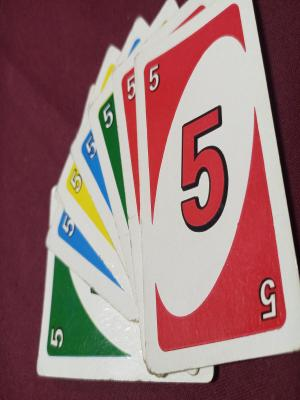num_5: (58, 205, 80, 243), (44, 321, 68, 355), (97, 99, 119, 134), (69, 162, 86, 202), (80, 130, 99, 165), (146, 61, 163, 99), (125, 73, 141, 112)
